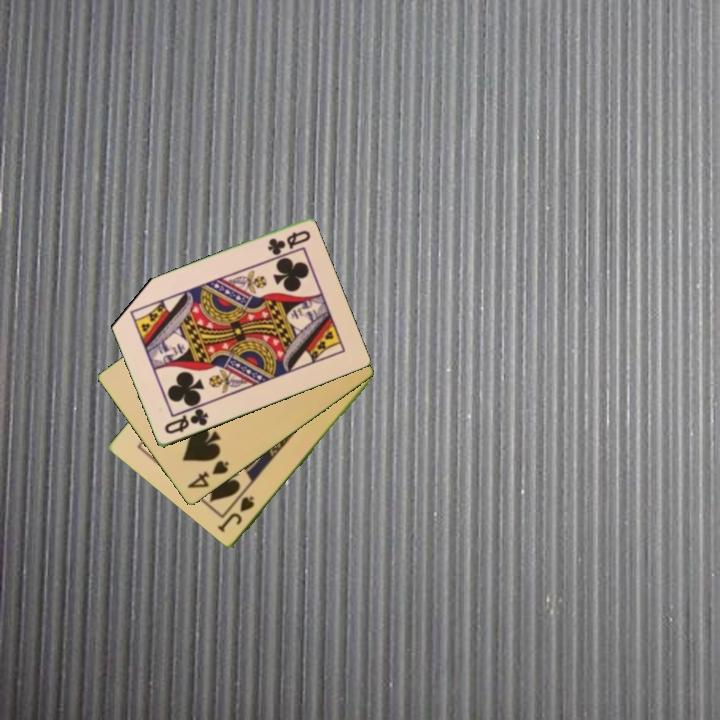4s: (184, 457, 232, 492)
Js: (215, 493, 257, 536)
Qc: (161, 405, 211, 437), (263, 227, 313, 258)
